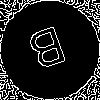B: (25, 25, 72, 80)
